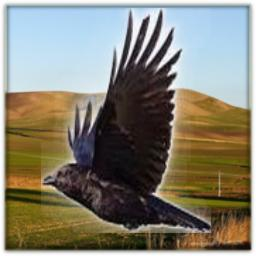Crow: (41, 8, 211, 233)
